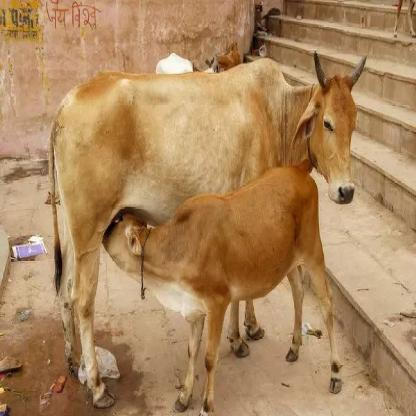cow: (34, 76, 364, 380), (109, 173, 343, 393)
